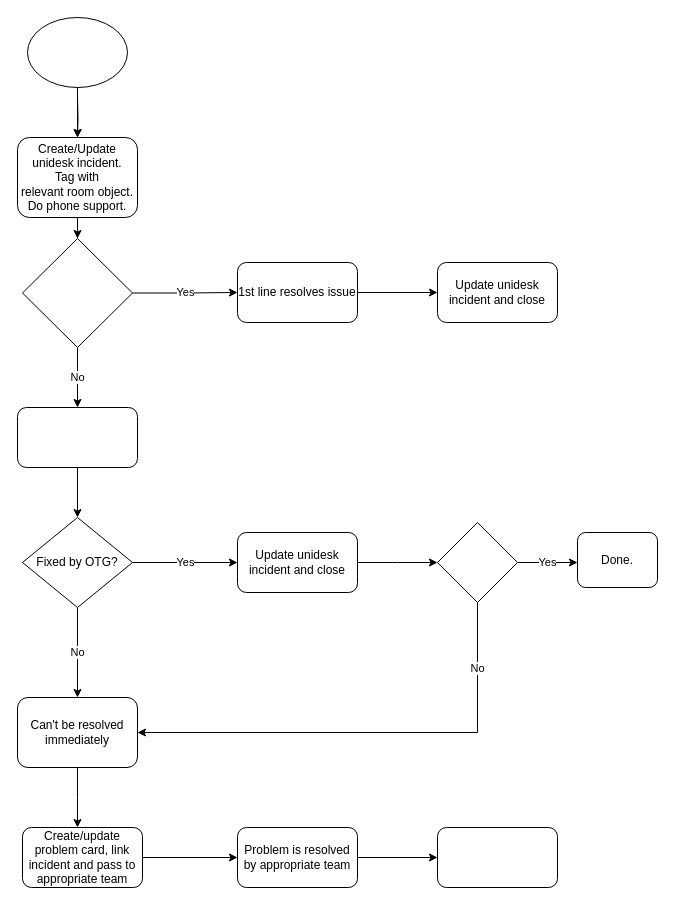
Some shapes in this 675 by 905 pixel diagram are drawn without their labels. The centre of each missing label's shape, as x and y in pixels:
"Can the issue be fully resolved remotely?" goes at pixel 77 293.
"Issue reported" goes at pixel 77 52.
"Pass incident to OTG 1st line team" goes at pixel 77 437.
"Problem card is archived, any related calls are closed." goes at pixel 497 857.
"Root cause resolved?" goes at pixel 477 562.
